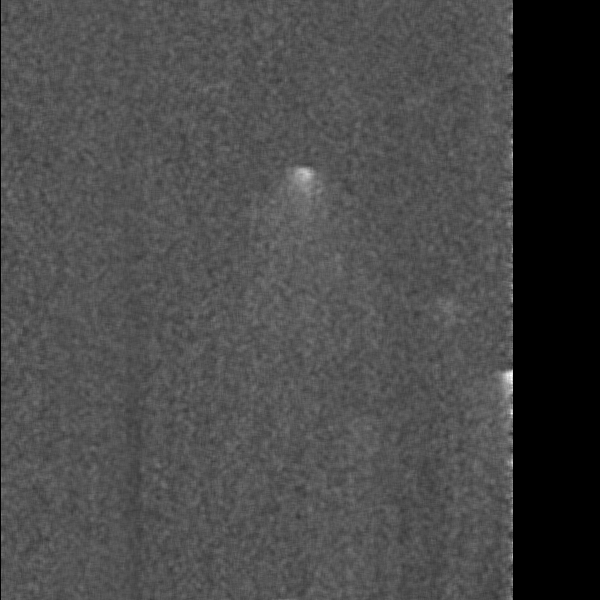spark: (290, 162, 318, 220), (434, 294, 458, 346)
